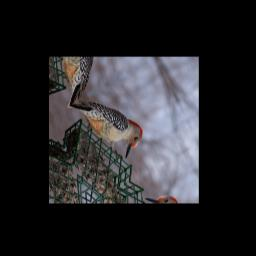Woodpecker: (70, 79, 150, 171)
